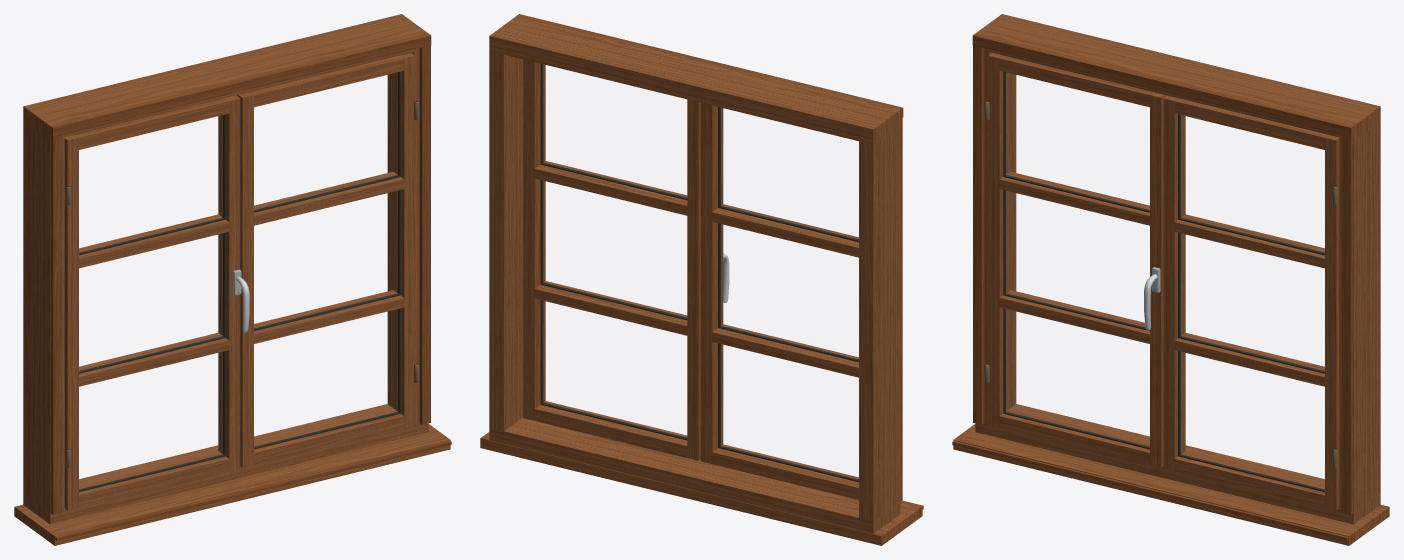
File: wood_casement_window.glb
3 views of the same model, side by side, from view 1: azimuth 30°, elevation 25°; view 2: azimuth 150°, elevation 25°; view 3: azimuth 330°, elevation 25° (orthographic).
Visible parts, largest first — view 1: wood_casement_window; view 2: wood_casement_window; view 3: wood_casement_window.
Boxes of the visible parts, box(x1,y1,x2,y2) form: wood_casement_window: box(14, 14, 451, 545); wood_casement_window: box(480, 14, 923, 545); wood_casement_window: box(952, 14, 1389, 545).
Size of the model in its own units: 1.38 by 1.36 by 0.253.
4 materials, 1 textured.
